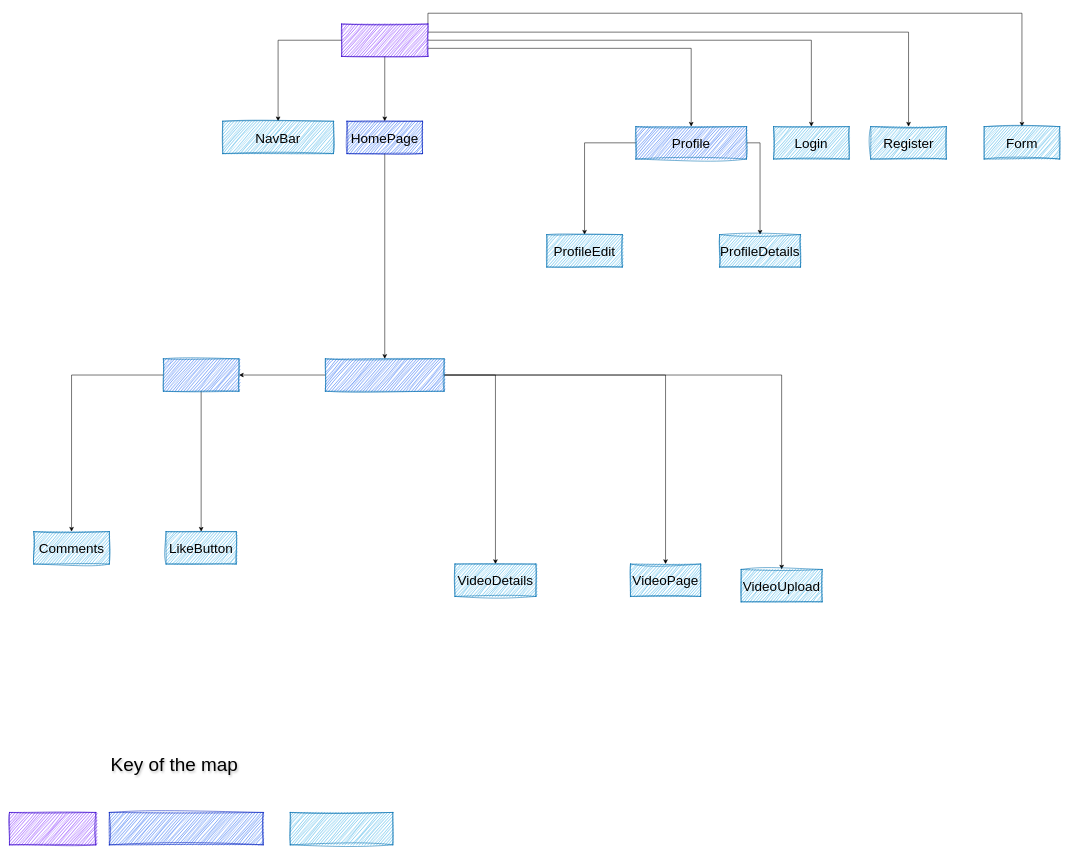
Some shapes in this 1069 by 854 pixel diagram are drawn without their labels. The shapes that lost their labels are listed below. From the top down, each one's box as (x1, y1, x2, y2) in pixels, then its label:
(341, 23, 428, 56): App
(163, 358, 239, 391): VideoCard
(325, 358, 444, 391): Video
(9, 812, 96, 845): Parent
(109, 812, 263, 845): Parent+Child at same time
(290, 812, 393, 845): Child
